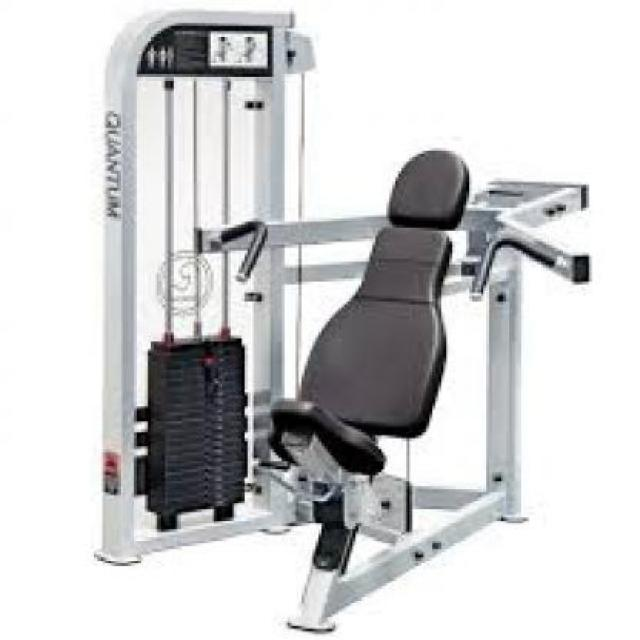shoulder press machine: (94, 1, 598, 638)
